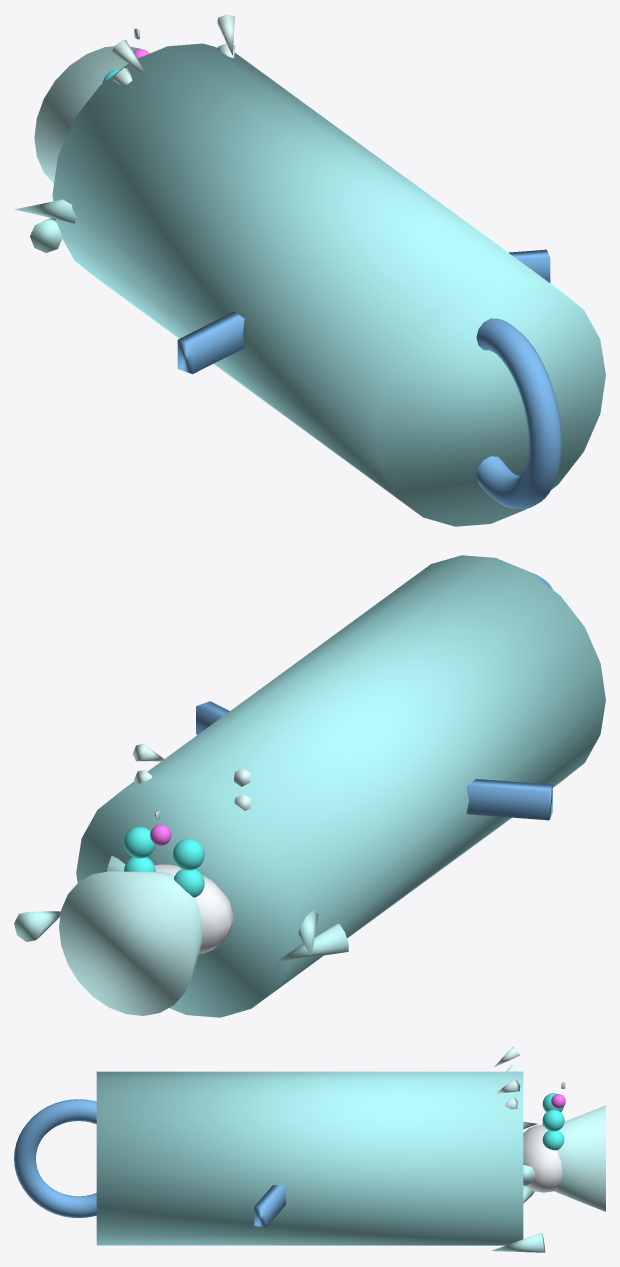
Rendered from AlienCatRocket_1.fbx.
3 views of the same model, one above another, from view 1: azimuth 30°, elevation 25°; view 2: azimuth 150°, elevation 25°; view 3: azimuth 270°, elevation 25° (orthographic). The views are drawn at different scales.
Parts seen in each view (by area): view 1: AlienCatRocket_Body, AlienCatRocket_TailRing, AlienCatRocket_Nose, AlienCatRocket, AlienCatRocket_Wing_-1; view 2: AlienCatRocket_Body, AlienCatRocket_Nose, AlienCatRocket, AlienCatRocket_Wing_-1, AlienCatRocket_Cockpit; view 3: AlienCatRocket_Body, AlienCatRocket_TailRing, AlienCatRocket_Nose, AlienCatRocket, AlienCatRocket_Cockpit.
Part boxes in pixels (box(x1,y1,x2,y2)): AlienCatRocket_Body: box(52, 43, 605, 526); AlienCatRocket_TailRing: box(476, 318, 561, 509); AlienCatRocket_Nose: box(34, 46, 140, 183); AlienCatRocket: box(14, 14, 550, 282); AlienCatRocket_Wing_-1: box(177, 311, 244, 374); AlienCatRocket_Body: box(76, 555, 605, 1017); AlienCatRocket_Nose: box(59, 871, 203, 1015); AlienCatRocket: box(14, 701, 348, 962); AlienCatRocket_Wing_-1: box(466, 779, 552, 820); AlienCatRocket_Cockpit: box(154, 864, 234, 954); AlienCatRocket_Body: box(96, 1071, 523, 1245); AlienCatRocket_TailRing: box(14, 1099, 96, 1218); AlienCatRocket_Nose: box(548, 1105, 605, 1211); AlienCatRocket: box(254, 1046, 564, 1252); AlienCatRocket_Cockpit: box(523, 1125, 562, 1192).
Bounding box in the file's own units: 115 × 79.34 × 243.
